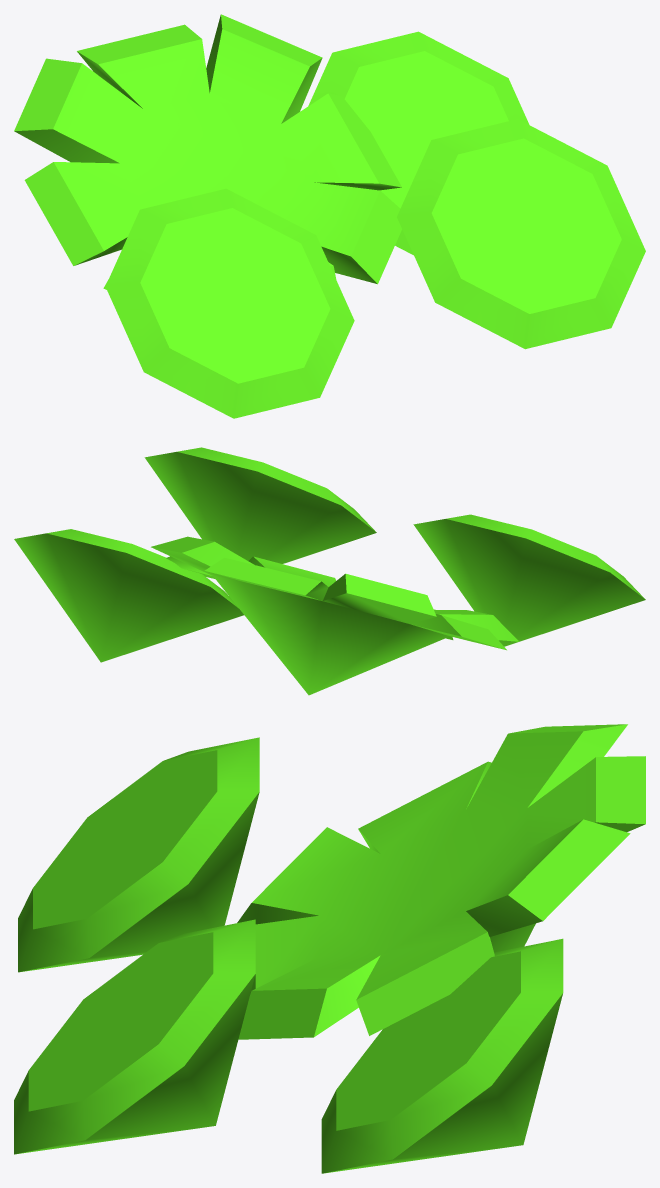
File: SM_Flower_14.FBX
The picture shows the model from 3 angles, top to bottom: view 1: azimuth 30°, elevation 25°; view 2: azimuth 150°, elevation 25°; view 3: azimuth 270°, elevation 25°; orthographic projection. The views are drawn at different scales.
Visible parts, largest first — view 1: 14; view 2: 14; view 3: 14.
Part boxes in pixels (x1,y1,x2,y2): 14: [14, 14, 645, 418]; 14: [14, 447, 645, 695]; 14: [14, 724, 645, 1173].
Size of the model in its own units: 2.49 by 0.8356 by 2.03.
